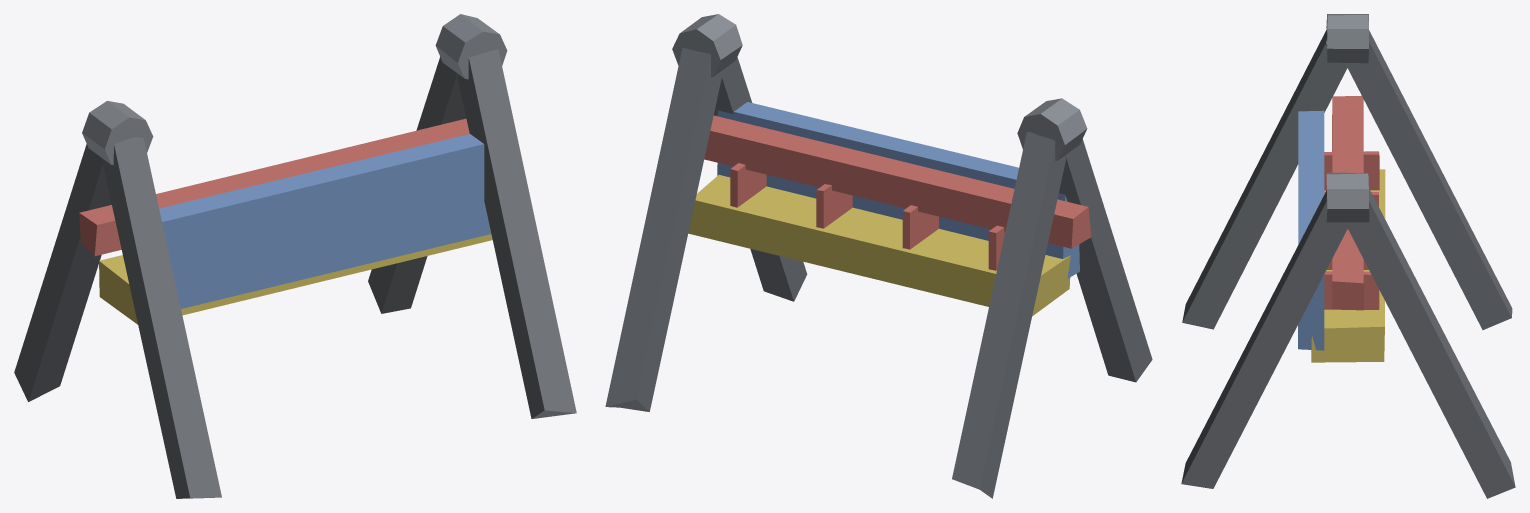
The model's file is topspin.fbx.
3 renders of one model, left to right at view 1: azimuth 30°, elevation 25°; view 2: azimuth 150°, elevation 25°; view 3: azimuth 270°, elevation 25°, orthographic. The views are drawn at different scales.
Parts seen in each view (by area): view 1: TopSpin; view 2: TopSpin; view 3: TopSpin.
Part boxes in pixels (x1,y1,x2,y2): TopSpin: [14, 14, 576, 498]; TopSpin: [605, 14, 1152, 498]; TopSpin: [1181, 14, 1515, 498].
Size of the model in its own units: 4.24 by 3.36 by 3.19.
